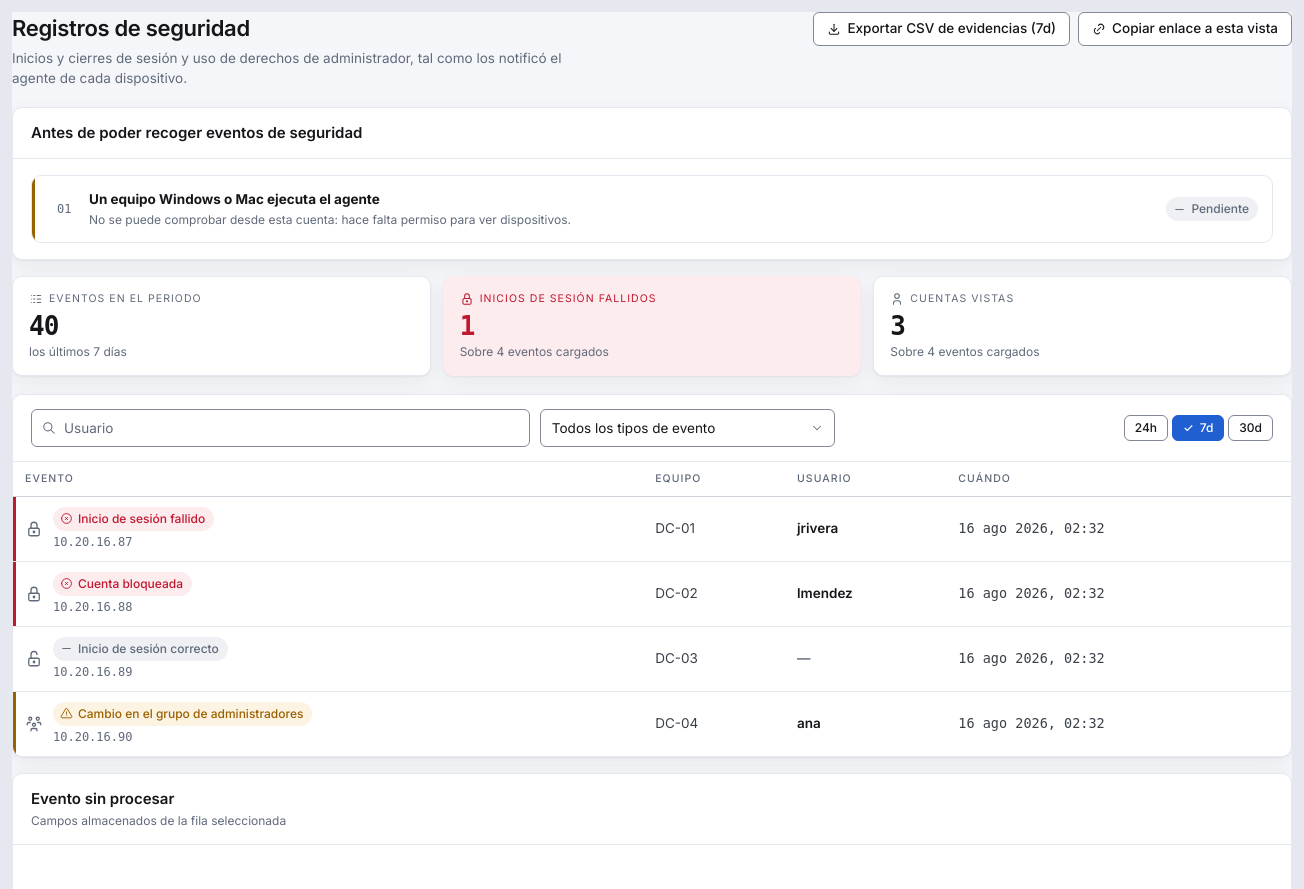
it: the security logs page in Spanish › shows the selected event's stored fields, and the panel before one is chosen
Expected: the text "DC-01" is shown, x1=643 y1=496 x2=785 y2=561
Expected: the heading "Evento sin procesar" is shown, x1=31 y1=789 x2=174 y2=808
Click the row that starts with "Inicio de sesión fallido": (652, 529) x1=13 y1=496 x2=1291 y2=561
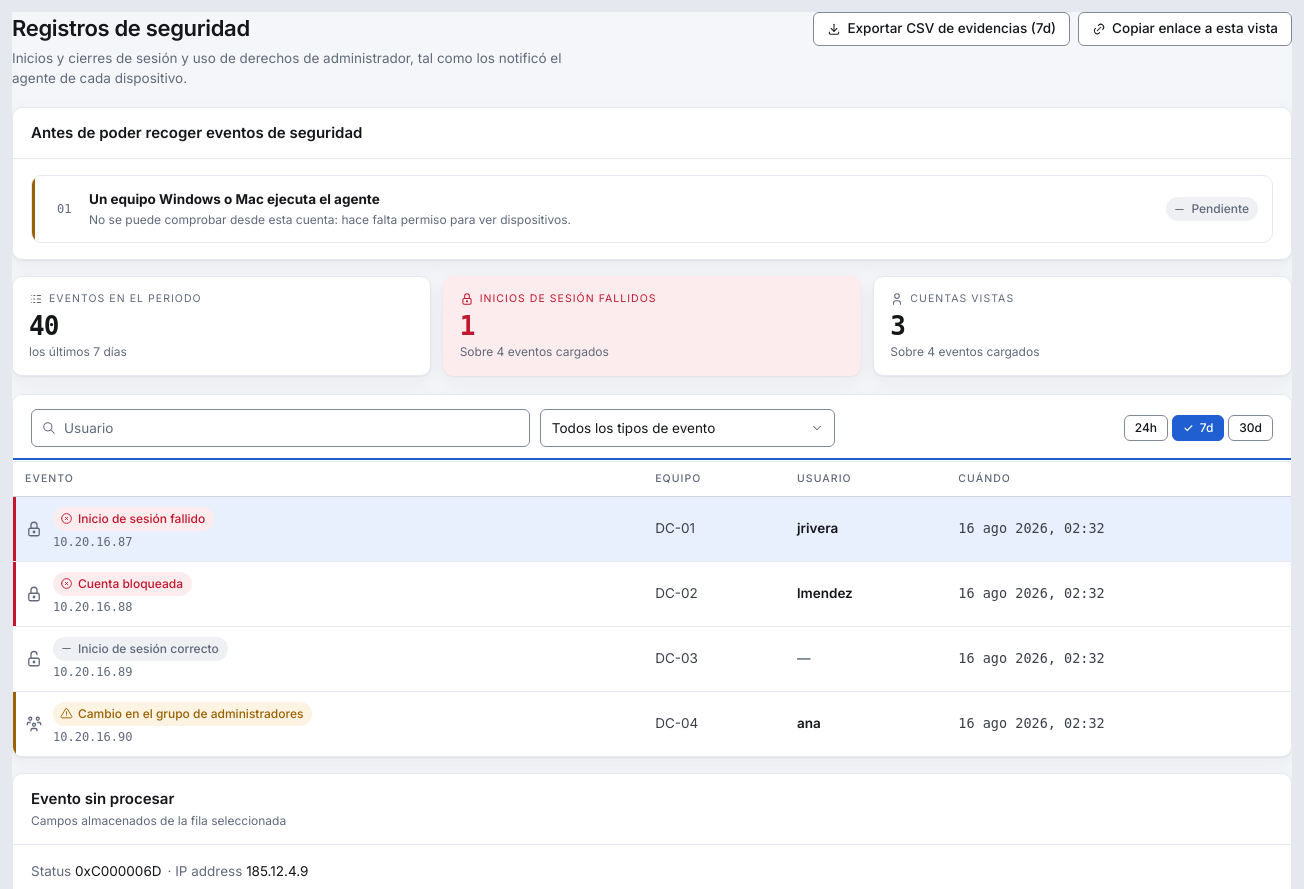
Expected: the text "185.12.4.9" is shown, x1=246 y1=863 x2=308 y2=879
